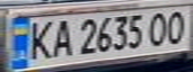2: (75, 15, 100, 56)
3: (112, 12, 133, 52)
5: (127, 11, 148, 50)
6: (93, 15, 115, 54)
A: (48, 17, 75, 59)
K: (24, 17, 57, 61)
O: (163, 8, 190, 46), (145, 10, 172, 47)
